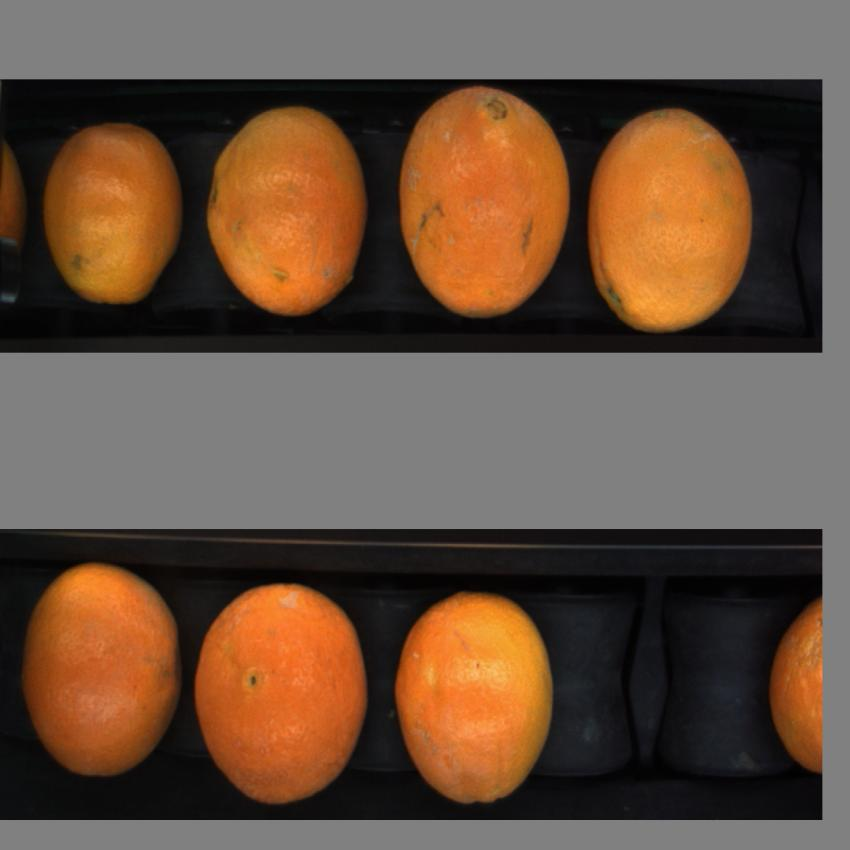Buen estado: (192, 564, 375, 812), (400, 84, 572, 322), (585, 106, 758, 339), (16, 558, 186, 790), (396, 585, 563, 808), (206, 97, 371, 320), (40, 111, 184, 316), (767, 595, 822, 781)
